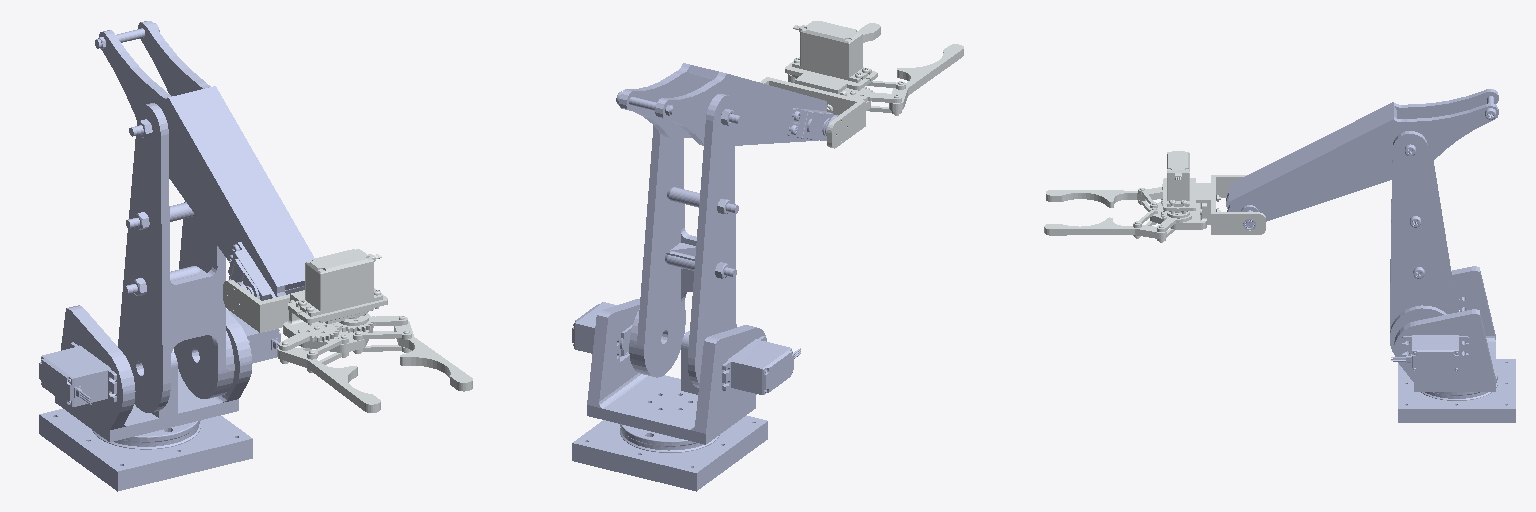
The robot description file, URDF, robot "arm":
<?xml version="1.0" encoding="utf-8"?>
<!-- This URDF was automatically created by SolidWorks to URDF Exporter! Originally created by [author] ([email redacted]) 
     Commit Version: 1.6.0-4-g7f85cfe  Build Version: 1.6.7995.38578
     For more information, please see http://wiki.ros.org/sw_urdf_exporter -->
<robot
  name="arm">
  <link
    name="base_link">
    <inertial>
      <origin
        xyz="2.4100810754784E-09 -1.44493238359068E-08 0.00916688701767407"
        rpy="0 0 0" />
      <mass
        value="1.48135898316253" />
      <inertia
        ixx="0.000124542297357122"
        ixy="9.76806810262928E-13"
        ixz="1.70313497348212E-12"
        iyy="0.000124542109078445"
        iyz="-1.05555456349748E-11"
        izz="0.000244817372701188" />
    </inertial>
    <visual>
      <origin
        xyz="0 0 0"
        rpy="0 0 0" />
      <geometry>
        <mesh
          filename="package://arm/meshes/base_link.STL" />
      </geometry>
      <material
        name="">
        <color
          rgba="0.792156862745098 0.819607843137255 0.933333333333333 1" />
      </material>
    </visual>
    <collision>
      <origin
        xyz="0 0 0"
        rpy="0 0 0" />
      <geometry>
        <mesh
          filename="package://arm/meshes/base_link.STL" />
      </geometry>
    </collision>
  </link>
  <link
    name="zhuantai">
    <inertial>
      <origin
        xyz="-0.011999 0.055179 -8.8289E-05"
        rpy="0 0 0" />
      <mass
        value="0.3267" />
      <inertia
        ixx="0.00027279"
        ixy="4.8006E-06"
        ixz="-3.1478E-12"
        iyy="0.00029875"
        iyz="1.6978E-11"
        izz="0.00015578" />
    </inertial>
    <visual>
      <origin
        xyz="0 0 0"
        rpy="0 0 0" />
      <geometry>
        <mesh
          filename="package://arm/meshes/zhuantai.STL" />
      </geometry>
      <material
        name="">
        <color
          rgba="0.79608 0.82353 0.93725 1" />
      </material>
    </visual>
    <collision>
      <origin
        xyz="0 0 0"
        rpy="0 0 0" />
      <geometry>
        <mesh
          filename="package://arm/meshes/zhuantai.STL" />
      </geometry>
    </collision>
  </link>
  <joint
    name="joint1"
    type="continuous">
    <origin
      xyz="0 0 0.00499999999999986"
      rpy="1.5707963267949 0 1.5707963267949" />
    <parent
      link="base_link" />
    <child
      link="zhuantai" />
    <axis
      xyz="0 -1 0" />
  </joint>
  <link
    name="bigarm">
    <inertial>
      <origin
        xyz="-0.00100337836934973 0.0780090299098532 -0.00615261150661628"
        rpy="0 0 0" />
      <mass
        value="0.000245587294450206" />
      <inertia
        ixx="0.000557532152213457"
        ixy="-2.8011208990669E-05"
        ixz="2.47917280447207E-06"
        iyy="0.000119109076882338"
        iyz="2.90800840435598E-05"
        izz="0.000609426584131222" />
    </inertial>
    <visual>
      <origin
        xyz="0 0 0"
        rpy="0 0 0" />
      <geometry>
        <mesh
          filename="package://arm/meshes/bigarm.STL" />
      </geometry>
      <material
        name="">
        <color
          rgba="0.796078431372549 0.823529411764706 0.937254901960784 1" />
      </material>
    </visual>
    <collision>
      <origin
        xyz="0 0 0"
        rpy="0 0 0" />
      <geometry>
        <mesh
          filename="package://arm/meshes/bigarm.STL" />
      </geometry>
    </collision>
  </link>
  <joint
    name="joint2"
    type="continuous">
    <origin
      xyz="-0.0279693093597577 0.0656993491435481 0.00249999999948774"
      rpy="0 1.5707963267949 0" />
    <parent
      link="zhuantai" />
    <child
      link="bigarm" />
    <axis
      xyz="-1 0 0" />
  </joint>
  <link
    name="smallarm">
    <inertial>
      <origin
        xyz="0.0235285609294794 -0.0176352263920943 -0.0499678766464063"
        rpy="0 0 0" />
      <mass
        value="0.000170564618114856" />
      <inertia
        ixx="0.000509722891714311"
        ixy="-3.31104759721371E-06"
        ixz="-6.12442935870747E-06"
        iyy="0.000445892301979633"
        iyz="-0.000164537890363107"
        izz="0.000119131575987572" />
    </inertial>
    <visual>
      <origin
        xyz="0 0 0"
        rpy="0 0 0" />
      <geometry>
        <mesh
          filename="package://arm/meshes/smallarm.STL" />
      </geometry>
      <material
        name="">
        <color
          rgba="0.796078431372549 0.823529411764706 0.937254901960784 1" />
      </material>
    </visual>
    <collision>
      <origin
        xyz="0 0 0"
        rpy="0 0 0" />
      <geometry>
        <mesh
          filename="package://arm/meshes/smallarm.STL" />
      </geometry>
    </collision>
  </link>
  <joint
    name="joint3"
    type="continuous">
    <origin
      xyz="-0.0239999999994174 0.174636899932102 -0.0112673502706042"
      rpy="0 0 0" />
    <parent
      link="bigarm" />
    <child
      link="smallarm" />
    <axis
      xyz="-1 0 0" />
  </joint>
  <link
    name="claw">
    <inertial>
      <origin
        xyz="-0.0396667445331423 -0.00212195225737732 0.0602292529686369"
        rpy="0 0 0" />
      <mass
        value="0.00010714008449797" />
      <inertia
        ixx="2.62267238937695E-05"
        ixy="-4.54171419305977E-08"
        ixz="-2.52768917102453E-07"
        iyy="5.10979075359834E-05"
        iyz="7.18279379282775E-07"
        izz="2.83714371448851E-05" />
    </inertial>
    <visual>
      <origin
        xyz="0 0 0"
        rpy="0 0 0" />
      <geometry>
        <mesh
          filename="package://arm/meshes/claw.STL" />
      </geometry>
      <material
        name="">
        <color
          rgba="0.898039215686275 0.917647058823529 0.929411764705882 1" />
      </material>
    </visual>
    <collision>
      <origin
        xyz="0 0 0"
        rpy="0 0 0" />
      <geometry>
        <mesh
          filename="package://arm/meshes/claw.STL" />
      </geometry>
    </collision>
  </link>
  <joint
    name="joint4"
    type="continuous">
    <origin
      xyz="-0.0160499999978932 -0.0625839738635943 -0.136320380776858"
      rpy="3.14159265358979 0 3.14159265358979" />
    <parent
      link="smallarm" />
    <child
      link="claw" />
    <axis
      xyz="-1 0 0" />
  </joint>
  

  
  <gazebo>
    <plugin name="control" filename="libgazebo_ros_control.so"/>
  </gazebo>
  
</robot>

--- What the picture shows (computed from the rendered views, not written in the file) ---
Views: 3 orthographic renders of the robot side by side, from view 1: azimuth 30°, elevation 25°; view 2: azimuth 150°, elevation 25°; view 3: azimuth 270°, elevation 25°.
Model arm with 5 links and 4 joints (4 continuous), rooted at base_link, posed all joints at 0.
Visible links, largest first — view 1: bigarm, smallarm, claw, zhuantai, base_link; view 2: bigarm, zhuantai, smallarm, claw, base_link; view 3: smallarm, bigarm, zhuantai, claw, base_link.
Link boxes in pixels (x1,y1,x2,y2): bigarm: (118, 103, 234, 412); smallarm: (95, 21, 314, 300); claw: (223, 249, 472, 412); zhuantai: (39, 305, 280, 441); base_link: (39, 409, 252, 491); bigarm: (629, 94, 741, 387); zhuantai: (572, 299, 800, 444); smallarm: (616, 63, 838, 145); claw: (760, 21, 963, 148); base_link: (572, 415, 767, 491); smallarm: (1226, 89, 1498, 229); bigarm: (1390, 131, 1457, 354); zhuantai: (1391, 266, 1495, 391); claw: (1044, 151, 1265, 242); base_link: (1398, 359, 1515, 422).
Bounding box of the posed robot: 0.1562 × 0.3998 × 0.2836 m (x, y, z).
5 mesh visuals loaded from 5 distinct referenced files (5 binary STL).